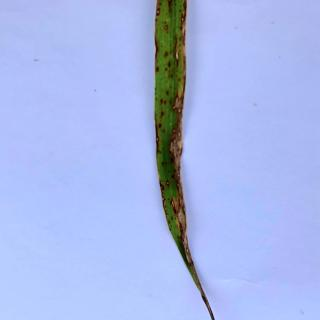Blast: (167, 124, 190, 168), (159, 169, 191, 193), (170, 197, 190, 233), (172, 94, 186, 115), (173, 43, 183, 68)
